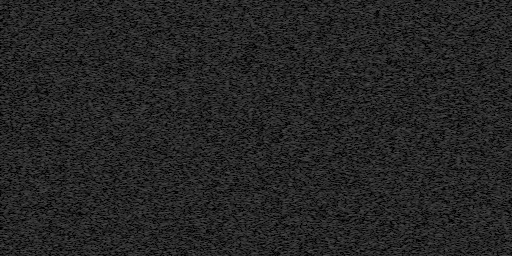wv_am: (451, 0, 456, 256)
wv_cw: (9, 0, 15, 256)
wv_lsb: (305, 1, 311, 256), (43, 123, 49, 178), (43, 208, 49, 256), (43, 25, 49, 61), (43, 179, 49, 200), (43, 95, 49, 115), (43, 69, 49, 89), (43, 0, 49, 18), (44, 201, 49, 207), (44, 62, 49, 68), (44, 19, 49, 24), (44, 116, 48, 122), (43, 90, 49, 94)
wv_usb: (447, 0, 453, 256), (0, 60, 4, 209), (477, 228, 483, 256), (0, 1, 4, 27), (0, 239, 4, 256), (478, 116, 482, 132), (478, 158, 482, 172), (478, 216, 482, 227), (321, 126, 325, 136), (0, 220, 3, 232), (322, 10, 325, 22), (322, 217, 325, 228), (321, 157, 325, 164), (322, 239, 325, 247), (321, 202, 325, 208), (321, 139, 325, 145), (0, 210, 3, 217), (322, 166, 325, 172), (322, 64, 325, 70), (321, 146, 325, 150), (0, 233, 3, 238), (0, 28, 3, 33), (322, 194, 325, 199), (322, 100, 325, 105), (322, 234, 325, 238), (322, 112, 325, 116), (322, 23, 325, 27), (0, 45, 3, 48), (0, 36, 3, 39), (322, 173, 325, 176), (322, 92, 325, 95), (322, 56, 325, 59), (322, 6, 325, 9)
wv_wbfm: (388, 0, 408, 256)
